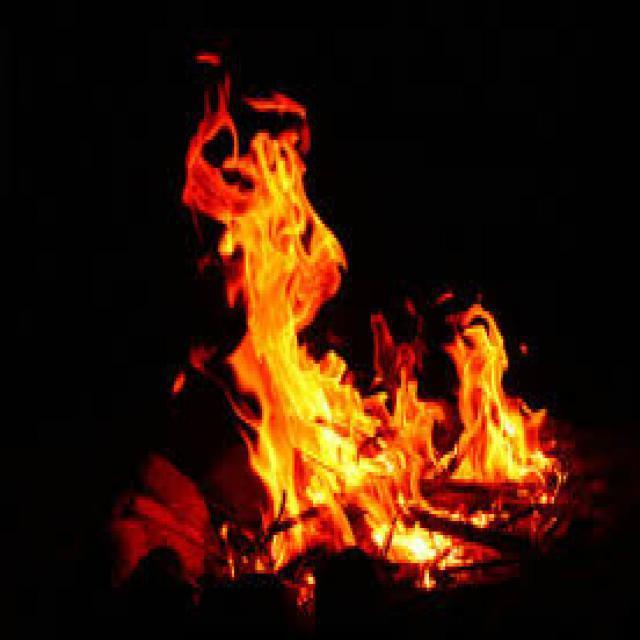Fire: (143, 21, 551, 640)
